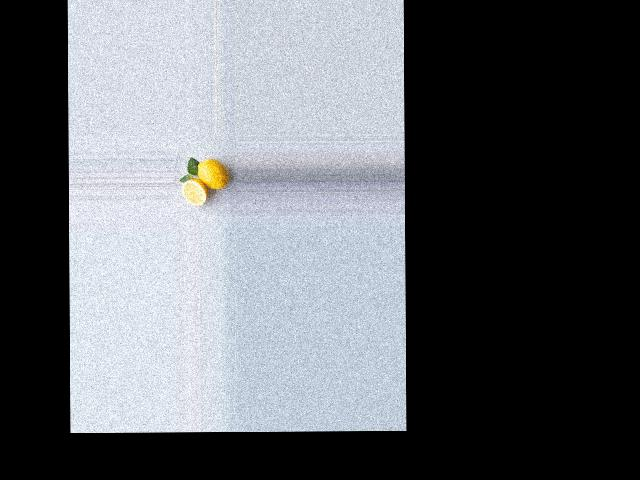lemon: (195, 156, 229, 189)
